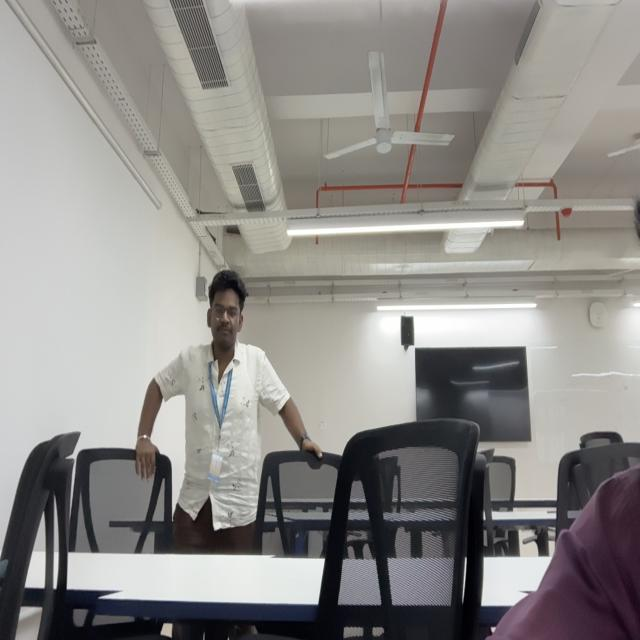sai: (202, 270, 248, 350)
